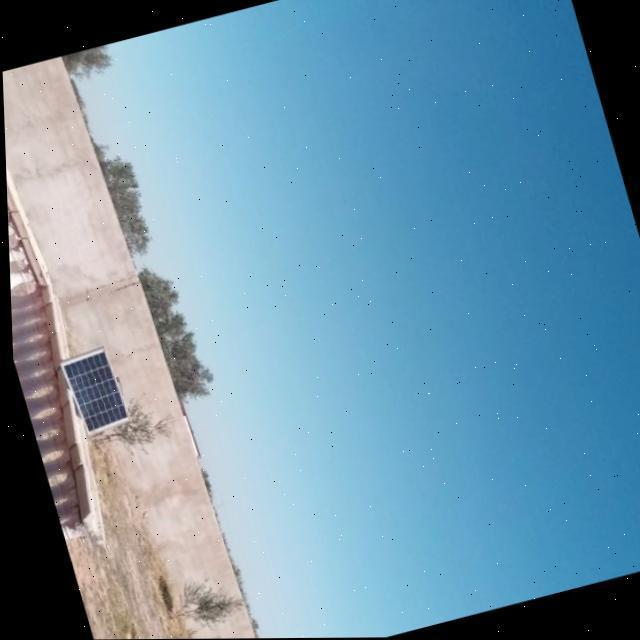Normal Solar Panel: (55, 346, 128, 436)
